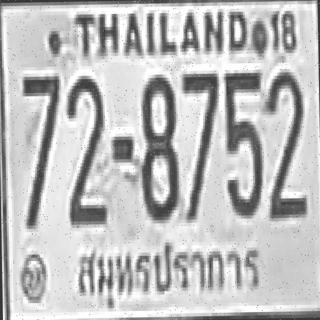N02: (65, 74, 106, 223), (265, 68, 304, 214)
N05: (222, 66, 261, 215)
N07: (20, 73, 61, 225), (180, 68, 219, 218)
N08: (138, 71, 178, 217)
P57: (73, 235, 265, 311)
